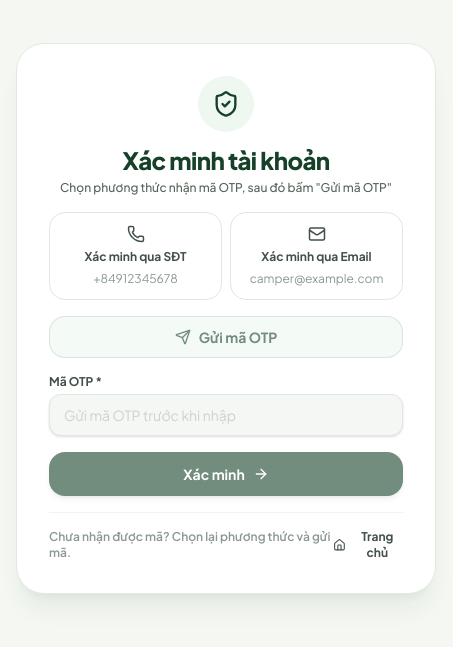
VerifyOtpPage › shows the resend-limit error and keeps the form locked when the first send is rejected with 409
Click the button "Xác minh qua SĐT +84912345678".
click(136, 256)  # box [49,212,222,300]
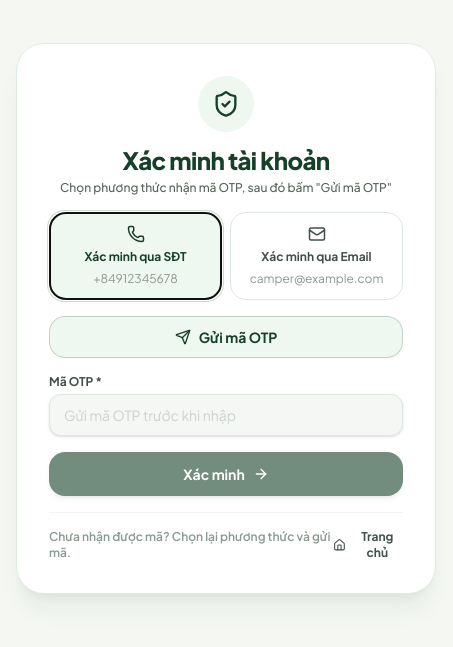
Click the button "Gửi mã OTP".
click(226, 336)  # box [49,316,403,358]
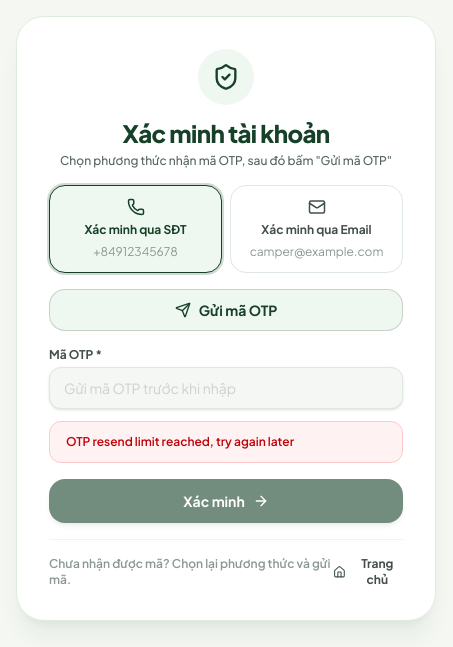
expect the field labelled "Mã OTP *" is disabled: met, box [49,366,403,408]
expect the text "OTP resend limit reached, try again later" is shown: met, box [66,434,294,448]
